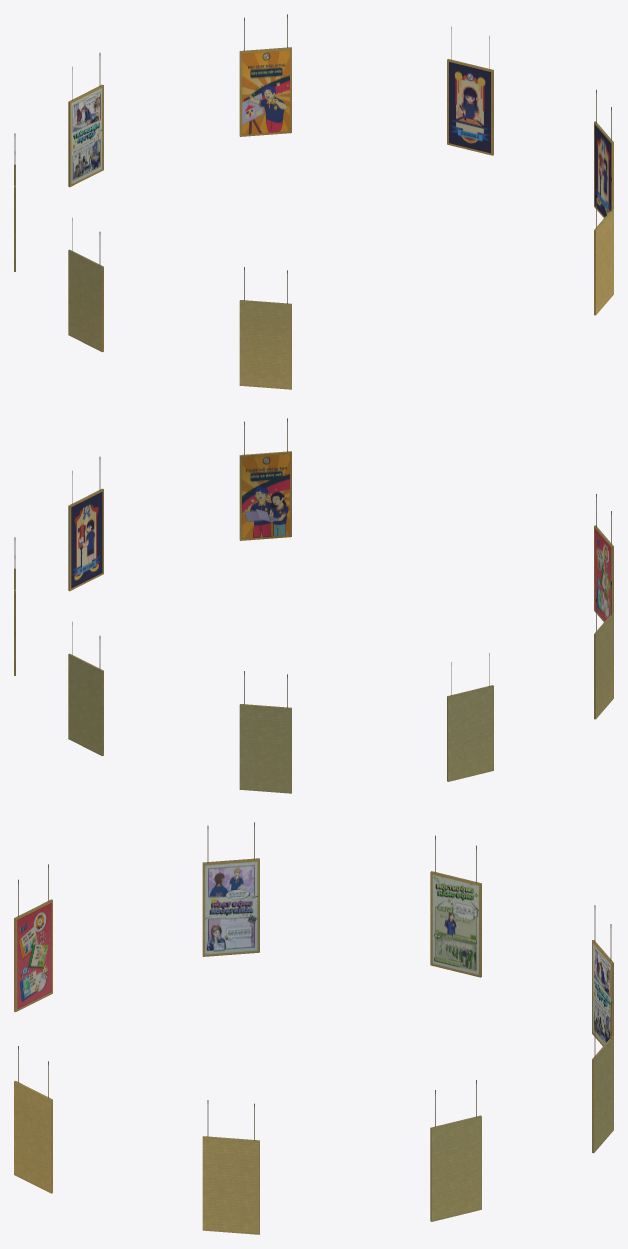
File: HangingPicture_LOD0.glb
3 renders of one model, top to bottom at view 1: azimuth 30°, elevation 25°; view 2: azimuth 150°, elevation 25°; view 3: azimuth 270°, elevation 25°, orthographic. The views are drawn at different scales.
Parts seen in each view (by area): view 1: Hanging Picture_PROCESSED.001_LOD0; view 2: Hanging Picture_PROCESSED.001_LOD0; view 3: Hanging Picture_PROCESSED.001_LOD0.
Part boxes in pixels (bbox=[...]): Hanging Picture_PROCESSED.001_LOD0: bbox=[14, 14, 613, 389]; Hanging Picture_PROCESSED.001_LOD0: bbox=[14, 418, 613, 793]; Hanging Picture_PROCESSED.001_LOD0: bbox=[14, 822, 613, 1234].
Bounding box in the file's own units: 23.08 × 4.96 × 20.67.
1 material, 1 textured.
